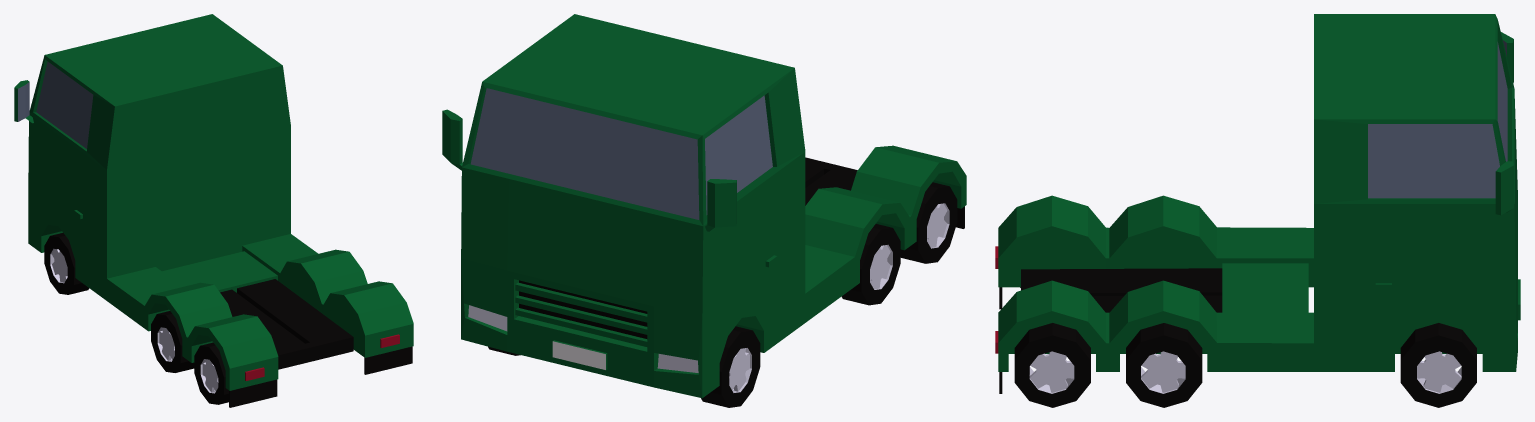
The model's file is oga_rgsdev_truck__tractor_v0.2.glb.
The picture shows the model from 3 angles, left to right: view 1: azimuth 30°, elevation 25°; view 2: azimuth 150°, elevation 25°; view 3: azimuth 270°, elevation 25°; orthographic projection. The views are drawn at different scales.
Visible parts, largest first — view 1: Truck, Truck wheel rear left, Truck wheel front left, Truck wheel rear left 2; view 2: Truck, Truck wheel front left, Truck wheel rear left 2, Truck wheel rear left; view 3: Truck, Truck wheel front right, Truck wheel rear right 2, Truck wheel rear right.
Part boxes in pixels (box(x1,y1,x2,y2)): Truck: box(14, 14, 413, 407); Truck wheel rear left: box(151, 311, 194, 372); Truck wheel front left: box(44, 233, 89, 294); Truck wheel rear left 2: box(194, 342, 228, 404); Truck: box(442, 14, 966, 398); Truck wheel front left: box(701, 326, 760, 407); Truck wheel rear left 2: box(900, 182, 957, 263); Truck wheel rear left: box(841, 224, 900, 305); Truck: box(995, 14, 1520, 393); Truck wheel front right: box(1400, 323, 1476, 407); Truck wheel rear right 2: box(1014, 323, 1090, 407); Truck wheel rear right: box(1126, 323, 1202, 407).
Size of the model in its own units: 3.16 by 2.97 by 4.98.
